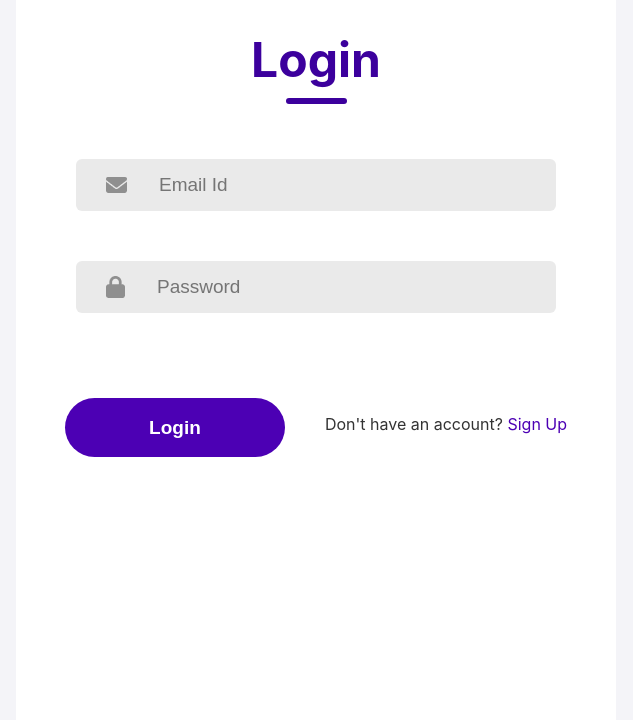
Test: Login Component Tests › validates fields on form submission attempt
Click the button "Login" at (175, 428), box [65,398,285,457]
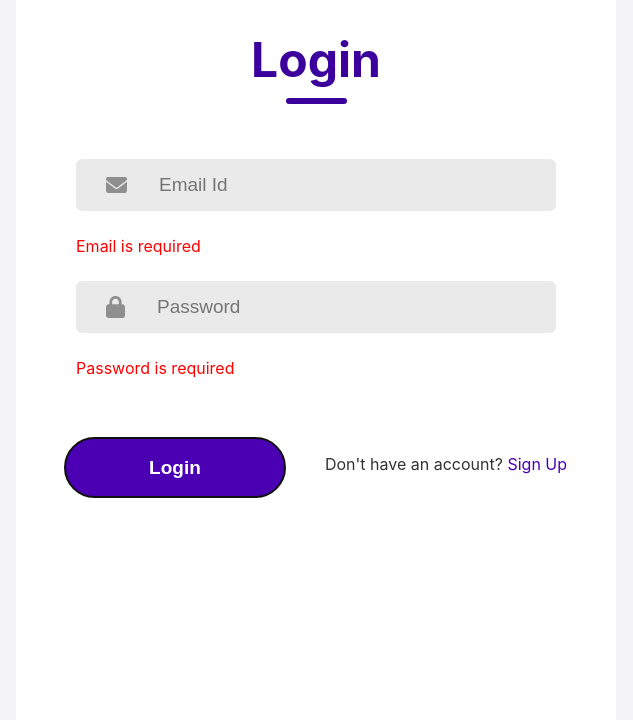
Result: the text "Email is required" is shown at [76,236,201,256]
Result: the text "Password is required" is shown at [76,358,234,378]
